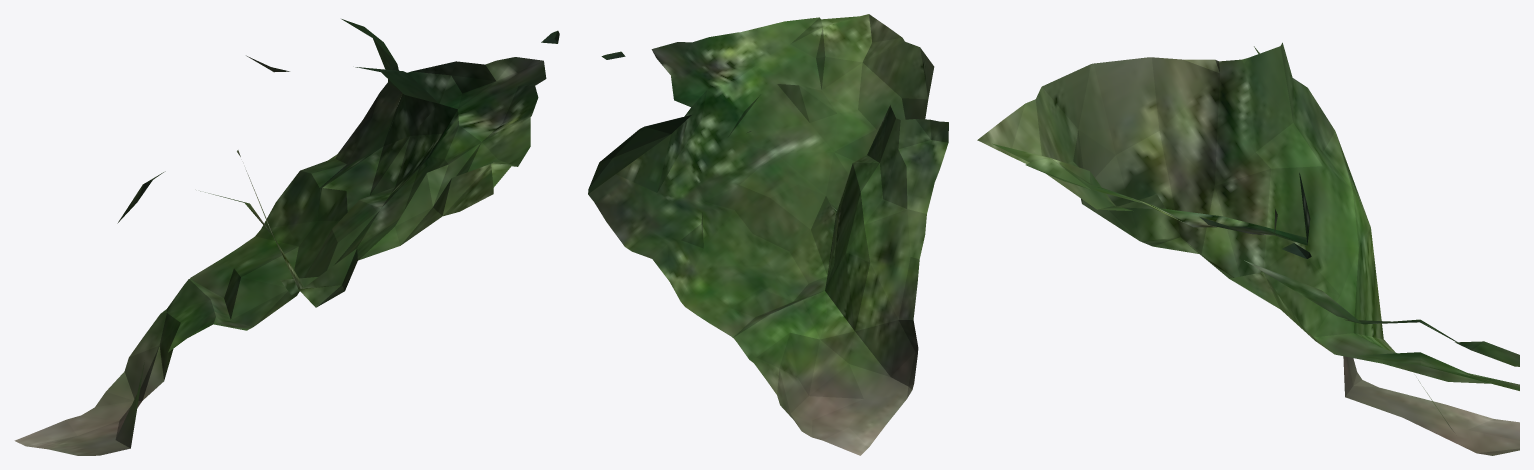
3 views of the same model, side by side, from view 1: azimuth 30°, elevation 25°; view 2: azimuth 150°, elevation 25°; view 3: azimuth 270°, elevation 25° (orthographic). The views are drawn at different scales.
Size of the model in its own units: 11.57 by 9.08 by 10.94.
1 material, 1 textured.
